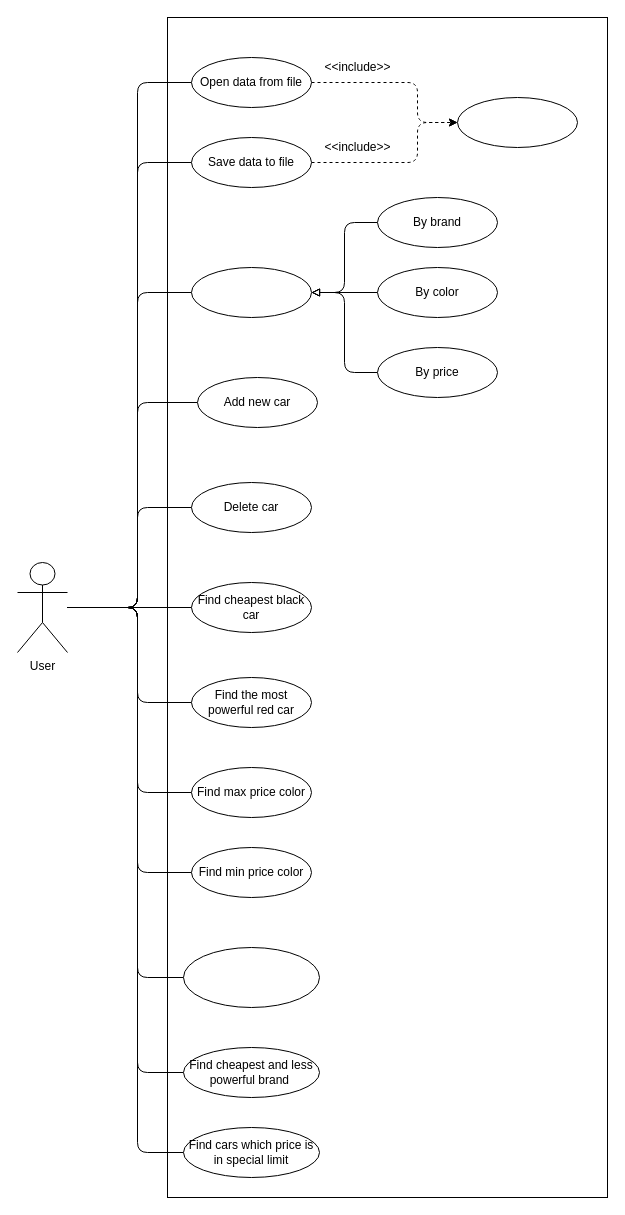
The diagram is 625 pixels wide and 1215 high, and some of its shapes have lost their labels. Each missing label, with the centre of its shape:
"Choose file" goes at [517,122].
"Find cars with equal price and different color" goes at [251,977].
"Sort data" goes at [251,292].
